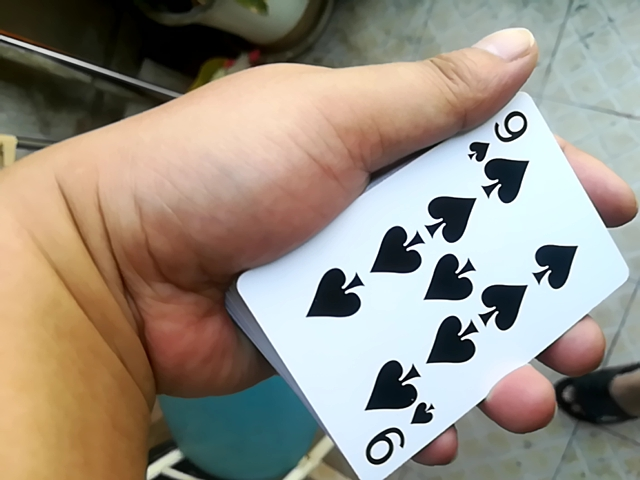ht 9: (219, 80, 631, 474)
